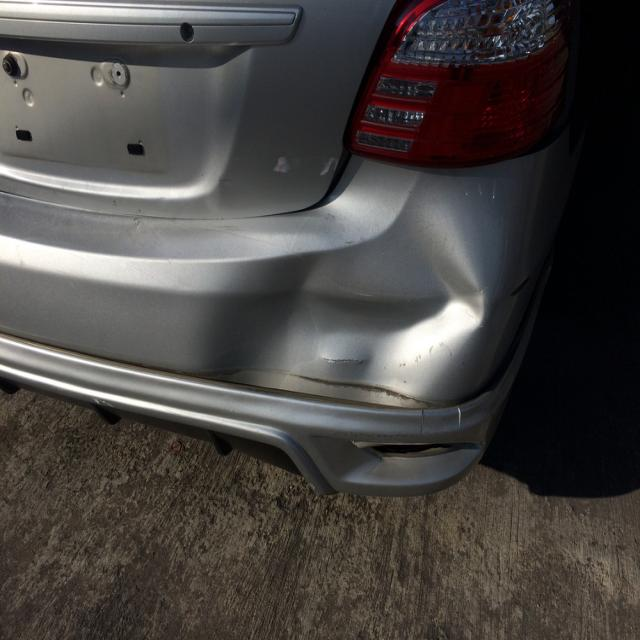dent: (200, 191, 485, 408)
